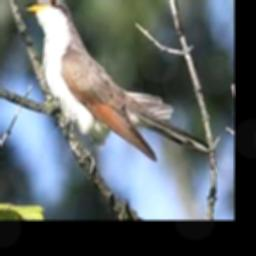Cuckoo: (24, 0, 210, 158)
